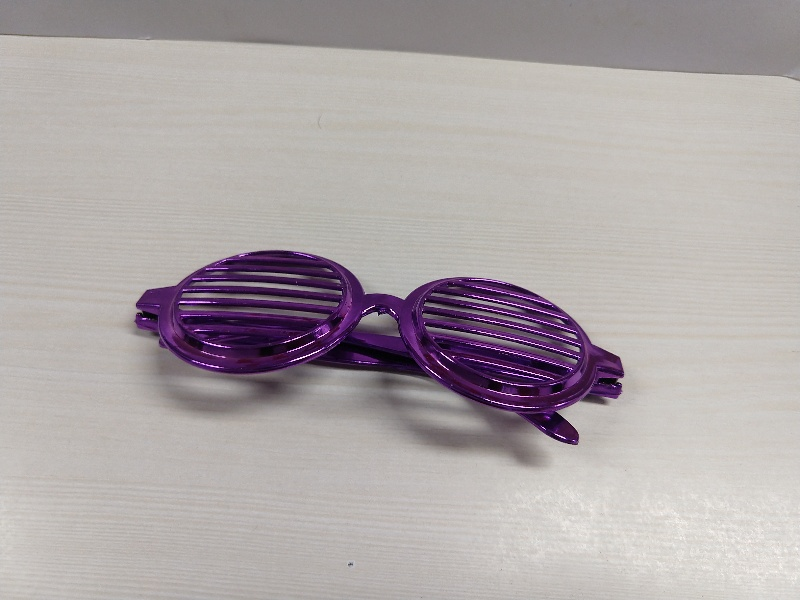shades: (131, 246, 639, 448)
